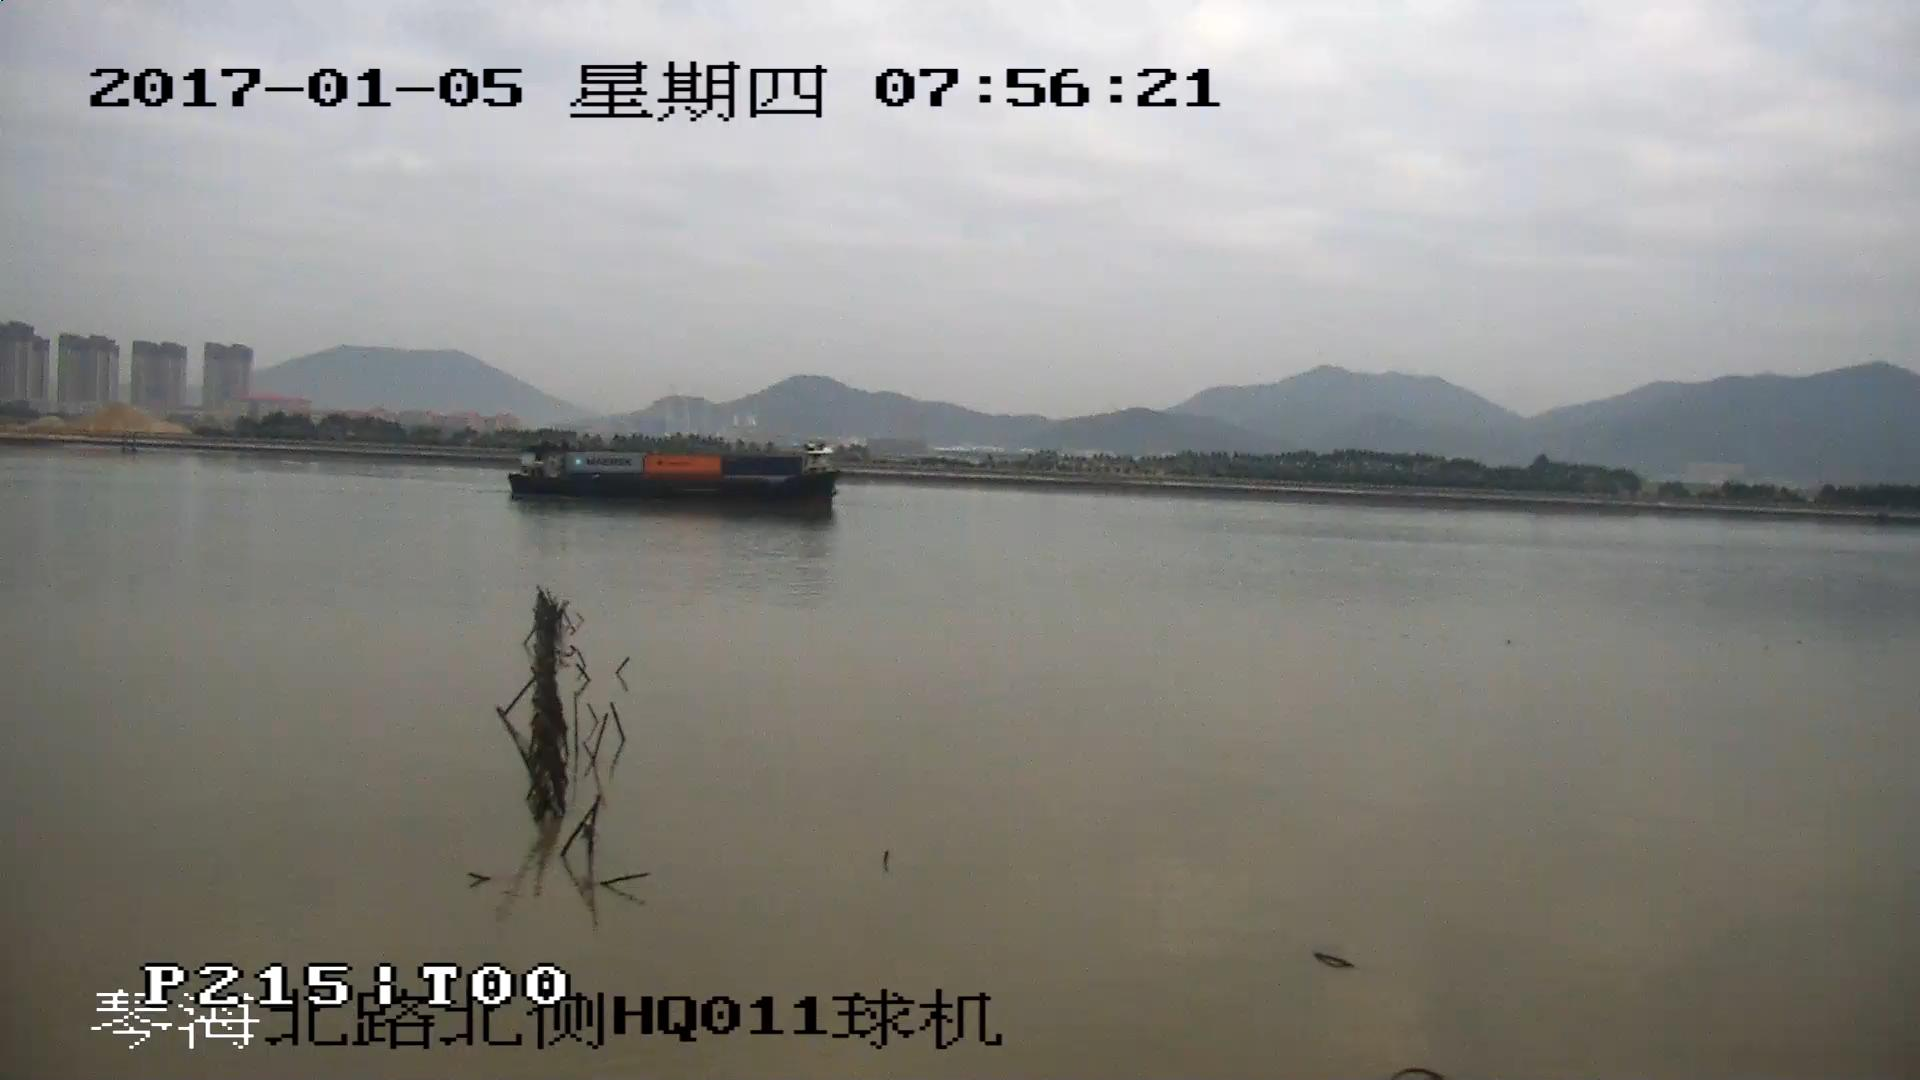container ship: (508, 444, 838, 513)
